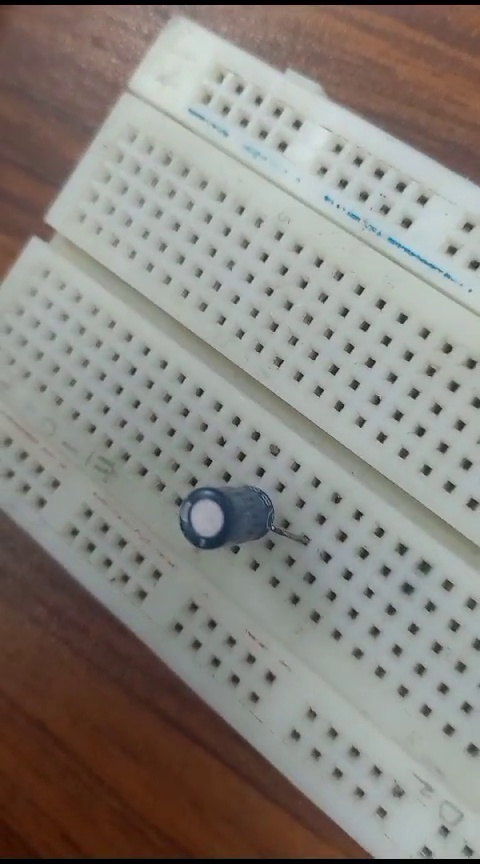capacitor: (178, 483, 317, 572)
